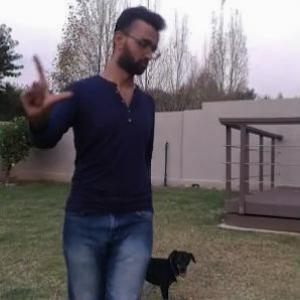land_hand: (16, 49, 71, 123)
